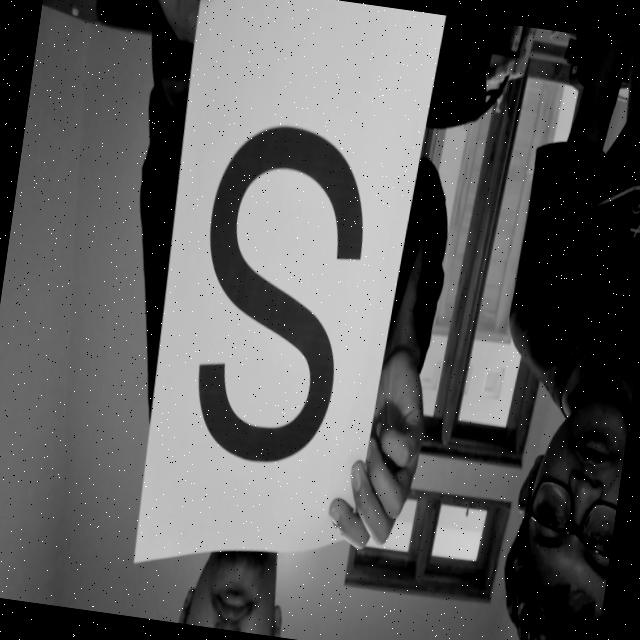s: (155, 94, 397, 486)
